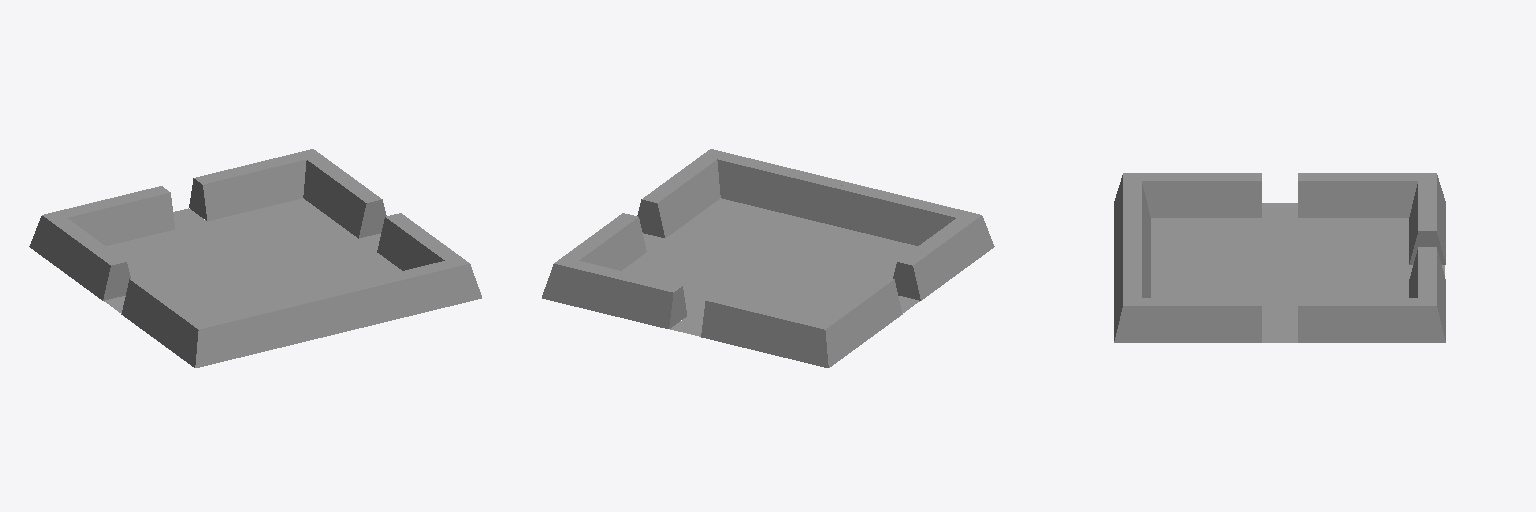
Rendered from sala_14.obj.
3 renders of one model, left to right at view 1: azimuth 30°, elevation 25°; view 2: azimuth 150°, elevation 25°; view 3: azimuth 270°, elevation 25°, orthographic.
Visible parts, largest first — view 1: Ground_Plane.001, Wall.003_Cube.010, Wall.001_Cube.012, Wall.004_Cube.015, Wall.007_Cube.017, Wall.006_Cube.016, Wall.005_Cube.002, Wall.000_Cube.011, Wall.002_Cube.014, Plane.001_Plane.007; view 2: Ground_Plane.001, Wall.004_Cube.015, Wall.006_Cube.016, Wall.003_Cube.010, Wall.001_Cube.012, Wall.000_Cube.011, Wall.002_Cube.014, Wall.007_Cube.017, Wall.005_Cube.002, Plane.001_Plane.007; view 3: Ground_Plane.001, Wall.005_Cube.002, Wall.002_Cube.014, Wall.000_Cube.011, Wall.007_Cube.017, Wall.006_Cube.016, Wall.001_Cube.012, Wall.003_Cube.010, Wall.004_Cube.015, Plane.003_Plane.005, Plane.000_Plane.006.
Boxes of the visible parts, <box> form: Ground_Plane.001: <box>106,198,401,318</box>; Wall.003_Cube.010: <box>326,261,481,332</box>; Wall.001_Cube.012: <box>195,290,338,367</box>; Wall.004_Cube.015: <box>189,149,312,221</box>; Wall.007_Cube.017: <box>29,215,130,300</box>; Wall.006_Cube.016: <box>44,186,174,245</box>; Wall.005_Cube.002: <box>303,149,386,238</box>; Wall.000_Cube.011: <box>121,275,204,367</box>; Wall.002_Cube.014: <box>377,213,468,270</box>; Plane.001_Plane.007: <box>173,208,216,236</box>; Ground_Plane.001: <box>622,198,917,318</box>; Wall.004_Cube.015: <box>542,261,686,328</box>; Wall.006_Cube.016: <box>701,294,828,367</box>; Wall.003_Cube.010: <box>711,149,845,224</box>; Wall.001_Cube.012: <box>833,182,979,245</box>; Wall.000_Cube.011: <box>893,215,994,300</box>; Wall.002_Cube.014: <box>637,149,720,238</box>; Wall.007_Cube.017: <box>819,275,902,367</box>; Wall.005_Cube.002: <box>555,213,646,270</box>; Plane.001_Plane.007: <box>670,308,703,336</box>; Ground_Plane.001: <box>1151,218,1408,317</box>; Wall.005_Cube.002: <box>1298,298,1445,342</box>; Wall.002_Cube.014: <box>1114,298,1261,342</box>; Wall.000_Cube.011: <box>1124,173,1261,217</box>; Wall.007_Cube.017: <box>1298,173,1435,217</box>; Wall.006_Cube.016: <box>1409,173,1445,264</box>; Wall.001_Cube.012: <box>1114,173,1150,270</box>; Wall.003_Cube.010: <box>1114,239,1150,340</box>; Wall.004_Cube.015: <box>1409,247,1445,340</box>; Plane.003_Plane.005: <box>1262,318,1297,342</box>; Plane.000_Plane.006: <box>1262,203,1297,226</box>.
Bounding box in the file's own units: 18 × 2 × 18.